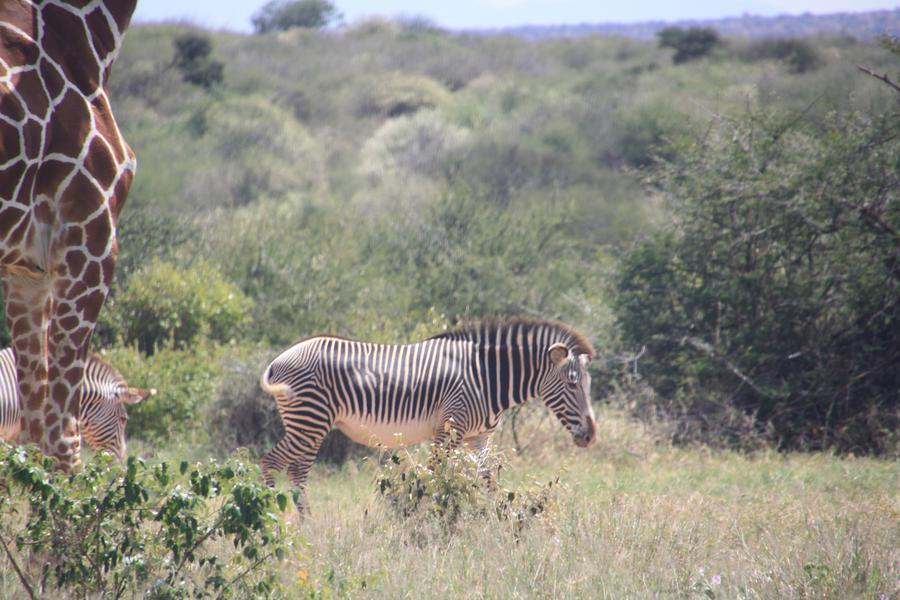zebra_grevys: (267, 329, 488, 447)
